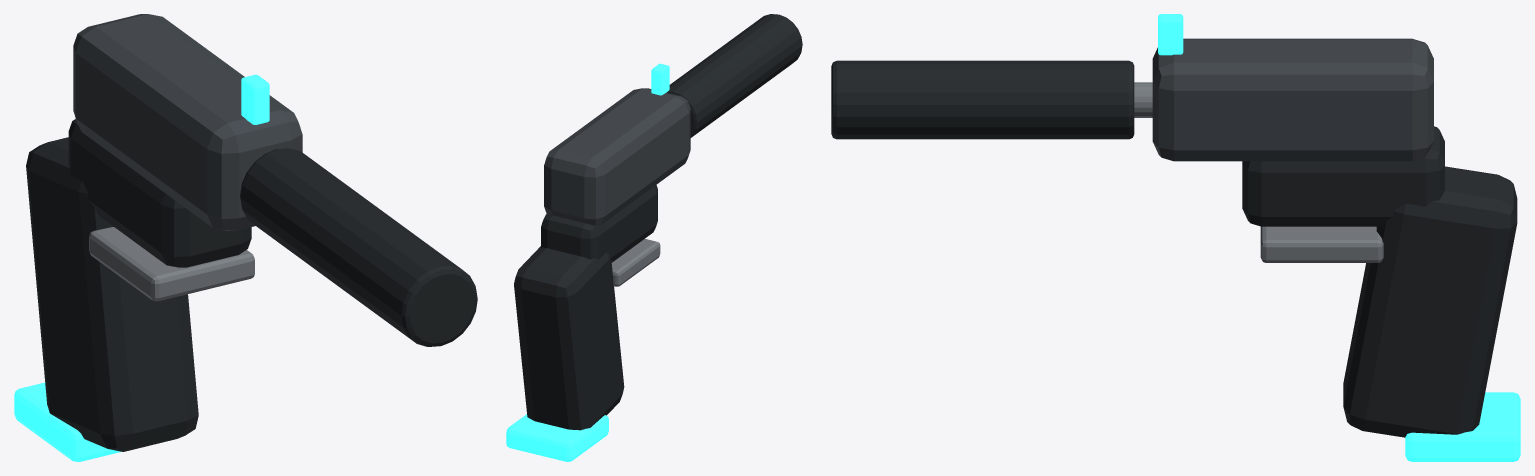
The model's file is usp.glb.
3 views of the same model, side by side, from view 1: azimuth 30°, elevation 25°; view 2: azimuth 150°, elevation 25°; view 3: azimuth 270°, elevation 25° (orthographic). The views are drawn at different scales.
Parts seen in each view (by area): view 1: Grip.002, Slide.002, Suppressor, Frame.002, Trigger guard.002, Magazine base.002, Front sight.007; view 2: Grip.002, Slide.002, Suppressor, Frame.002, Magazine base.002, Trigger guard.002, Front sight.007; view 3: Grip.002, Slide.002, Suppressor, Frame.002, Magazine base.002, Trigger guard.002, Front sight.007, Barrel.009.
Part boxes in pixels (left/top/right/bottom): Grip.002: left=26, top=137, right=198, bottom=451; Slide.002: left=73, top=14, right=302, bottom=230; Suppressor: left=240, top=148, right=477, bottom=346; Frame.002: left=68, top=119, right=251, bottom=267; Trigger guard.002: left=89, top=227, right=254, bottom=301; Magazine base.002: left=14, top=382, right=121, bottom=461; Front sight.007: left=241, top=74, right=269, bottom=124; Grip.002: left=514, top=246, right=624, bottom=430; Slide.002: left=544, top=88, right=690, bottom=225; Suppressor: left=666, top=14, right=802, bottom=137; Frame.002: left=541, top=185, right=657, bottom=262; Magazine base.002: left=506, top=414, right=608, bottom=461; Trigger guard.002: left=611, top=239, right=660, bottom=286; Front sight.007: left=651, top=63, right=669, bottom=95; Grip.002: left=1343, top=166, right=1517, bottom=437; Slide.002: left=1152, top=38, right=1433, bottom=161; Suppressor: left=831, top=60, right=1134, bottom=139; Frame.002: left=1242, top=126, right=1444, bottom=226; Magazine base.002: left=1405, top=392, right=1520, bottom=461; Trigger guard.002: left=1260, top=226, right=1383, bottom=262; Front sight.007: left=1158, top=14, right=1183, bottom=55; Barrel.009: left=1134, top=82, right=1152, bottom=117.
Bounding box in the file's own units: 0.15 × 0.65 × 0.955.
